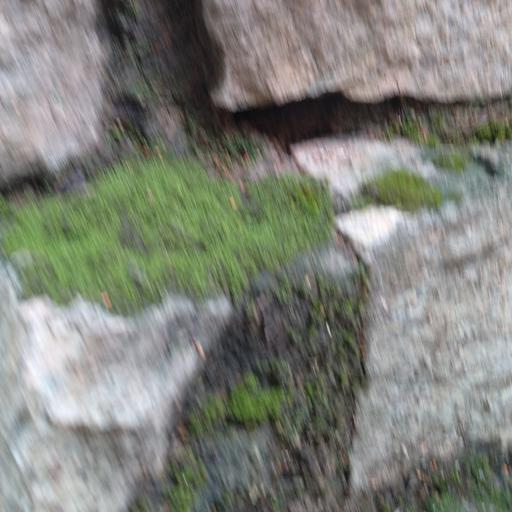algae: (6, 101, 512, 507)
